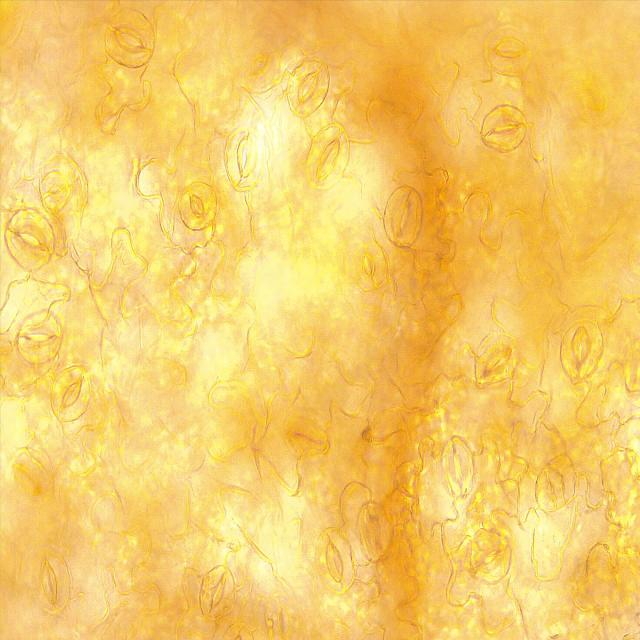Stomata: (104, 7, 156, 70), (5, 210, 57, 272), (559, 319, 604, 384), (314, 528, 357, 596), (306, 123, 350, 189), (466, 525, 512, 586), (29, 550, 72, 614), (383, 183, 424, 250), (223, 128, 265, 192), (285, 58, 330, 116), (474, 332, 518, 388), (481, 101, 527, 154), (17, 311, 63, 364), (51, 365, 92, 423), (485, 27, 533, 76), (198, 563, 236, 622), (442, 435, 474, 496), (352, 240, 388, 293), (178, 182, 217, 230), (39, 169, 71, 211)
